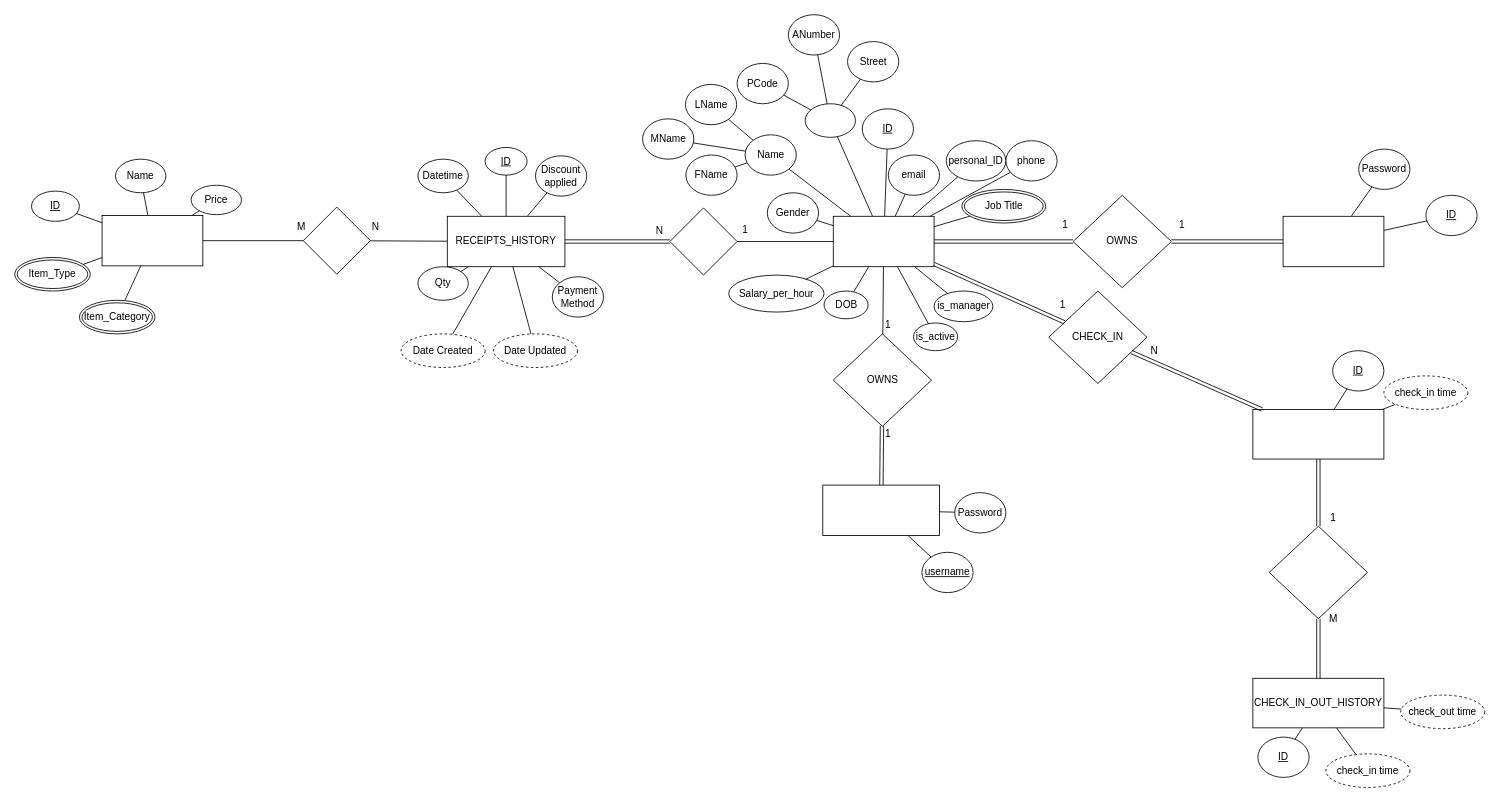
Image size: 1499x802. Some labels were removed from this diagram. The shapes that lost their labels are listed below. From the top down, each one's centre as x and y in pixels, then its label:
At (830,120): "Address".
At (152,240): "ITEMS".
At (336,240): "CONTAINS".
At (703,241): "CREATE".
At (883,241): "USERS".
At (1333,241): "POS_ACCOUNT".
At (1318,434): "ACTIVE_ CHECK_IN_OUT_HISTORY".
At (881,510): "MANAGER_ACCOUNT".
At (1318,572): "SAVE".
